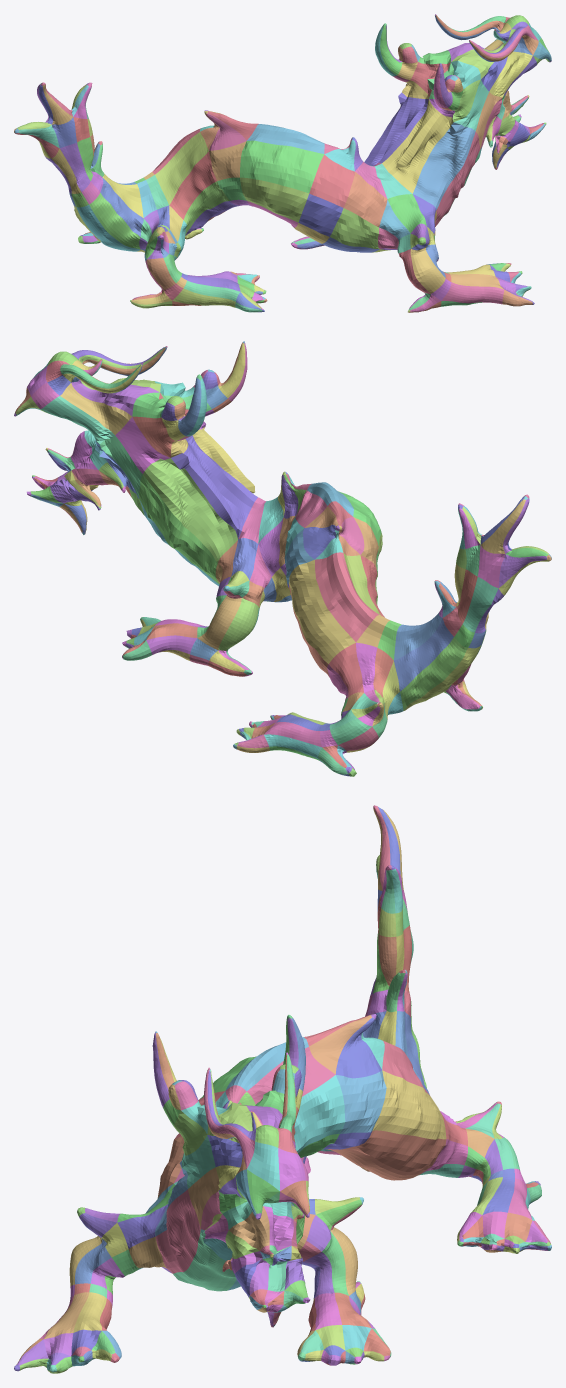
Rendered from 13_dragon_output.obj.
3 views of the same model, one above another, from view 1: azimuth 30°, elevation 25°; view 2: azimuth 150°, elevation 25°; view 3: azimuth 270°, elevation 25° (orthographic). The views are drawn at different scales.
Bounding box in the file's own units: 200 × 89.25 × 133.
